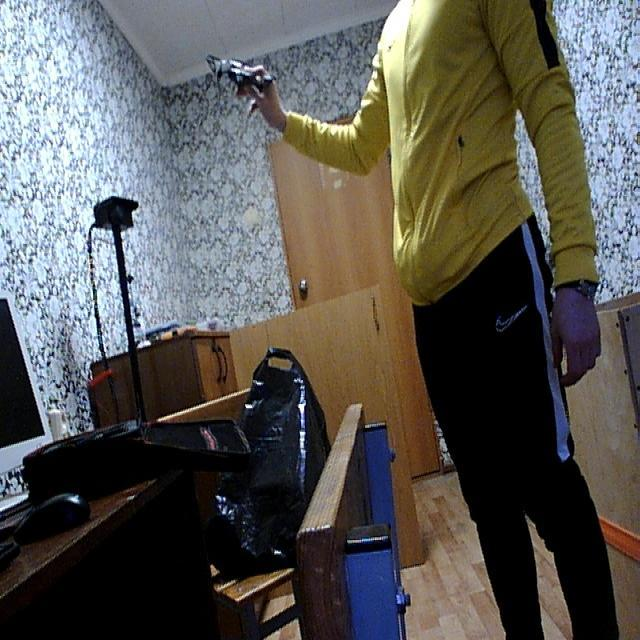drone: (197, 42, 285, 112)
